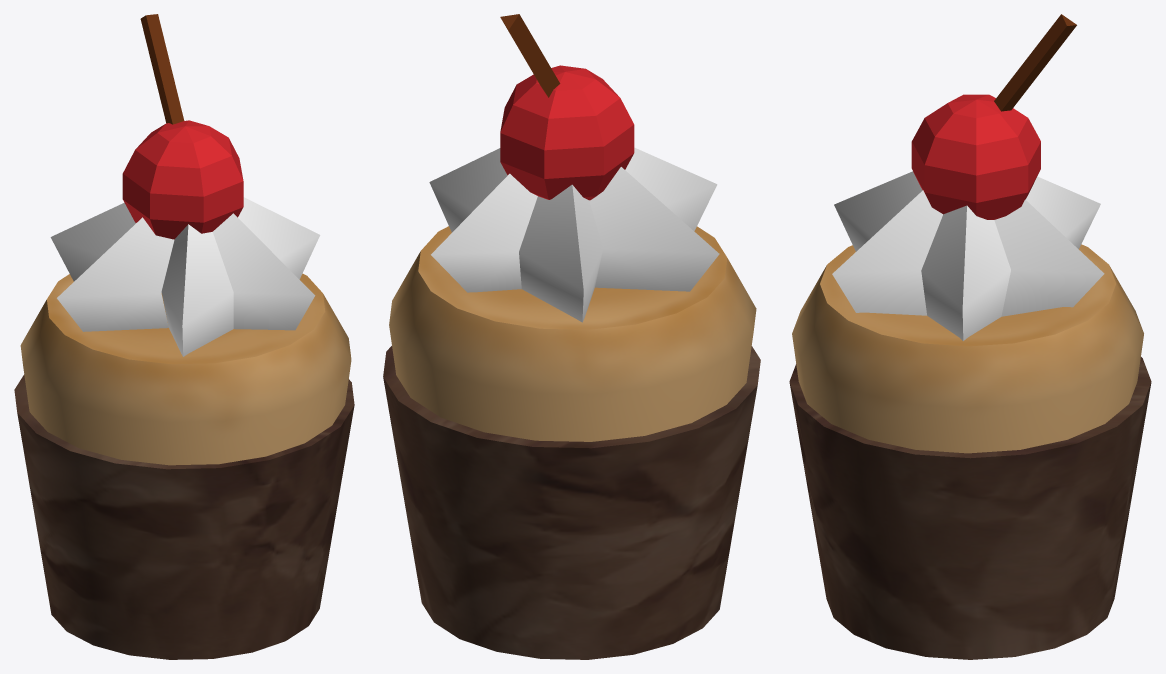
File: cupCake.fbx
The picture shows the model from 3 angles, left to right: view 1: azimuth 30°, elevation 25°; view 2: azimuth 150°, elevation 25°; view 3: azimuth 270°, elevation 25°; orthographic projection. The views are drawn at different scales.
Visible parts, largest first — view 1: pSphere4; view 2: pSphere4; view 3: pSphere4.
Boxes of the visible parts, <box> form: pSphere4: <box>14,14,354,659</box>; pSphere4: <box>383,14,760,659</box>; pSphere4: <box>789,14,1151,659</box>.
Bounding box in the file's own units: 2 × 3.58 × 2.
1 material, 1 textured.
